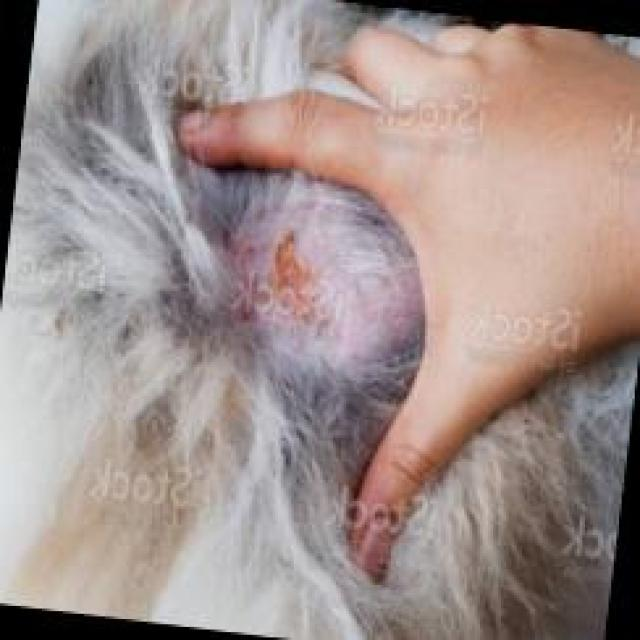fungal infection: (218, 222, 344, 333)
